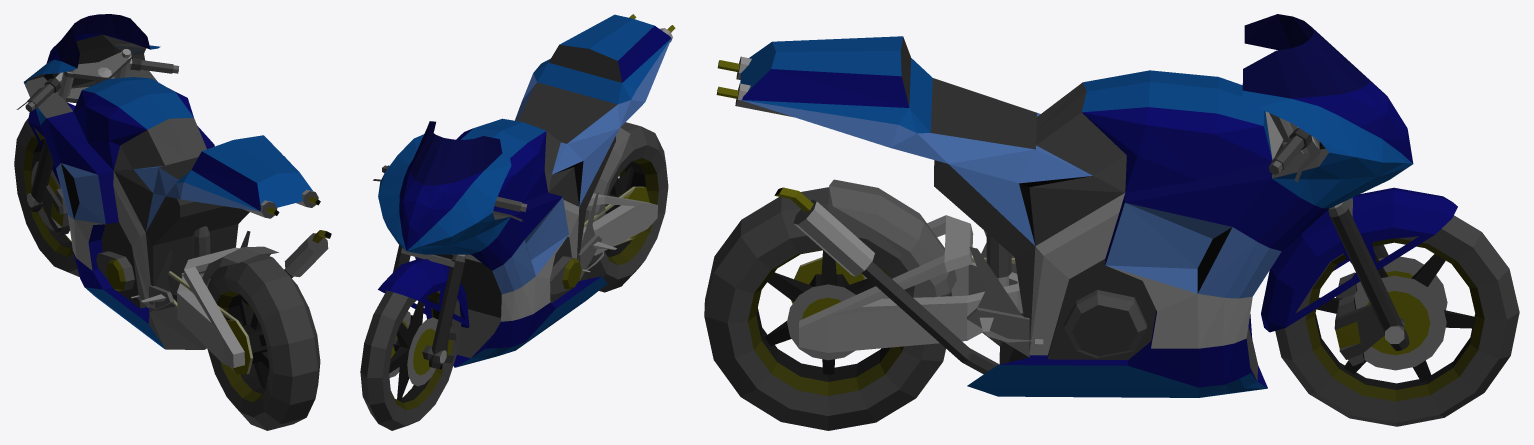
The model's file is Rider2.obj.
The picture shows the model from 3 angles, left to right: view 1: azimuth 30°, elevation 25°; view 2: azimuth 150°, elevation 25°; view 3: azimuth 270°, elevation 25°; orthographic projection. The views are drawn at different scales.
Visible parts, largest first — view 1: ShapeIndexedFaceSet.050_ShapeIndexedFaceSet.051, ShapeIndexedFaceSet.001_ShapeIndexedFaceSet.002, ShapeIndexedFaceSet.021_ShapeIndexedFaceSet.022, ShapeIndexedFaceSet.004_ShapeIndexedFaceSet.005, ShapeIndexedFaceSet_ShapeIndexedFaceSet.001, ShapeIndexedFaceSet.044_ShapeIndexedFaceSet.045, ShapeIndexedFaceSet.019_ShapeIndexedFaceSet.020, ShapeIndexedFaceSet.014_ShapeIndexedFaceSet.015, ShapeIndexedFaceSet.006_ShapeIndexedFaceSet.007, ShapeIndexedFaceSet.040_ShapeIndexedFaceSet.041, ShapeIndexedFaceSet.010_ShapeIndexedFaceSet.011, ShapeIndexedFaceSet.048_ShapeIndexedFaceSet.049 (+26 smaller); view 2: ShapeIndexedFaceSet.009_ShapeIndexedFaceSet.010, ShapeIndexedFaceSet.001_ShapeIndexedFaceSet.002, ShapeIndexedFaceSet.010_ShapeIndexedFaceSet.011, ShapeIndexedFaceSet.002_ShapeIndexedFaceSet.003, ShapeIndexedFaceSet.040_ShapeIndexedFaceSet.041, ShapeIndexedFaceSet.006_ShapeIndexedFaceSet.007, ShapeIndexedFaceSet.050_ShapeIndexedFaceSet.051, ShapeIndexedFaceSet.014_ShapeIndexedFaceSet.015, ShapeIndexedFaceSet.004_ShapeIndexedFaceSet.005, ShapeIndexedFaceSet.011_ShapeIndexedFaceSet.012, ShapeIndexedFaceSet.024_ShapeIndexedFaceSet.025, ShapeIndexedFaceSet.044_ShapeIndexedFaceSet.045 (+19 smaller); view 3: ShapeIndexedFaceSet.050_ShapeIndexedFaceSet.051, ShapeIndexedFaceSet.004_ShapeIndexedFaceSet.005, ShapeIndexedFaceSet.009_ShapeIndexedFaceSet.010, ShapeIndexedFaceSet.001_ShapeIndexedFaceSet.002, ShapeIndexedFaceSet.010_ShapeIndexedFaceSet.011, ShapeIndexedFaceSet.040_ShapeIndexedFaceSet.041, ShapeIndexedFaceSet.002_ShapeIndexedFaceSet.003, ShapeIndexedFaceSet.044_ShapeIndexedFaceSet.045, ShapeIndexedFaceSet.024_ShapeIndexedFaceSet.025, ShapeIndexedFaceSet.011_ShapeIndexedFaceSet.012, ShapeIndexedFaceSet.006_ShapeIndexedFaceSet.007, ShapeIndexedFaceSet.014_ShapeIndexedFaceSet.015 (+22 smaller).
Boxes of the visible parts, x1,y1,x2,y2 form: ShapeIndexedFaceSet.050_ShapeIndexedFaceSet.051: (207, 254, 320, 430); ShapeIndexedFaceSet.001_ShapeIndexedFaceSet.002: (82, 77, 312, 211); ShapeIndexedFaceSet.021_ShapeIndexedFaceSet.022: (146, 196, 249, 349); ShapeIndexedFaceSet.004_ShapeIndexedFaceSet.005: (73, 88, 260, 210); ShapeIndexedFaceSet_ShapeIndexedFaceSet.001: (96, 118, 206, 290); ShapeIndexedFaceSet.044_ShapeIndexedFaceSet.045: (177, 247, 244, 367); ShapeIndexedFaceSet.019_ShapeIndexedFaceSet.020: (47, 111, 214, 323); ShapeIndexedFaceSet.014_ShapeIndexedFaceSet.015: (56, 14, 150, 68); ShapeIndexedFaceSet.006_ShapeIndexedFaceSet.007: (133, 165, 259, 231); ShapeIndexedFaceSet.040_ShapeIndexedFaceSet.041: (14, 118, 79, 276); ShapeIndexedFaceSet.010_ShapeIndexedFaceSet.011: (41, 34, 129, 289); ShapeIndexedFaceSet.048_ShapeIndexedFaceSet.049: (227, 294, 269, 394); ShapeIndexedFaceSet.009_ShapeIndexedFaceSet.010: (378, 134, 607, 367); ShapeIndexedFaceSet.001_ShapeIndexedFaceSet.002: (461, 14, 671, 157); ShapeIndexedFaceSet.010_ShapeIndexedFaceSet.011: (399, 160, 562, 348); ShapeIndexedFaceSet.002_ShapeIndexedFaceSet.003: (517, 45, 622, 206); ShapeIndexedFaceSet.040_ShapeIndexedFaceSet.041: (360, 290, 461, 430); ShapeIndexedFaceSet.006_ShapeIndexedFaceSet.007: (515, 38, 671, 206); ShapeIndexedFaceSet.050_ShapeIndexedFaceSet.051: (580, 122, 668, 292); ShapeIndexedFaceSet.014_ShapeIndexedFaceSet.015: (410, 121, 502, 185); ShapeIndexedFaceSet.004_ShapeIndexedFaceSet.005: (456, 26, 670, 207); ShapeIndexedFaceSet.011_ShapeIndexedFaceSet.012: (492, 197, 568, 294); ShapeIndexedFaceSet.024_ShapeIndexedFaceSet.025: (378, 258, 469, 327); ShapeIndexedFaceSet.044_ShapeIndexedFaceSet.045: (581, 193, 657, 255); ShapeIndexedFaceSet.050_ShapeIndexedFaceSet.051: (704, 187, 951, 430); ShapeIndexedFaceSet.004_ShapeIndexedFaceSet.005: (742, 69, 1272, 192); ShapeIndexedFaceSet.009_ShapeIndexedFaceSet.010: (967, 90, 1412, 397); ShapeIndexedFaceSet.001_ShapeIndexedFaceSet.002: (740, 36, 1272, 158); ShapeIndexedFaceSet.010_ShapeIndexedFaceSet.011: (1126, 75, 1413, 387); ShapeIndexedFaceSet.040_ShapeIndexedFaceSet.041: (1275, 215, 1519, 426); ShapeIndexedFaceSet.002_ShapeIndexedFaceSet.003: (900, 36, 1137, 358); ShapeIndexedFaceSet.044_ShapeIndexedFaceSet.045: (799, 215, 1022, 352); ShapeIndexedFaceSet.024_ShapeIndexedFaceSet.025: (1261, 187, 1457, 332); ShapeIndexedFaceSet.011_ShapeIndexedFaceSet.012: (1105, 202, 1281, 298); ShapeIndexedFaceSet.006_ShapeIndexedFaceSet.007: (741, 100, 1092, 245); ShapeIndexedFaceSet.014_ShapeIndexedFaceSet.015: (1242, 14, 1369, 98).
Size of the model in its own units: 1.97 by 3.36 by 6.35.
